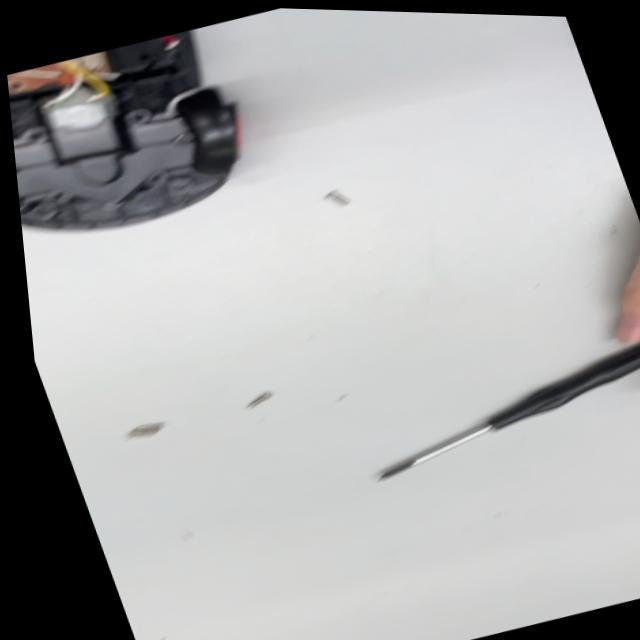screw_driver: (364, 310, 640, 486)
